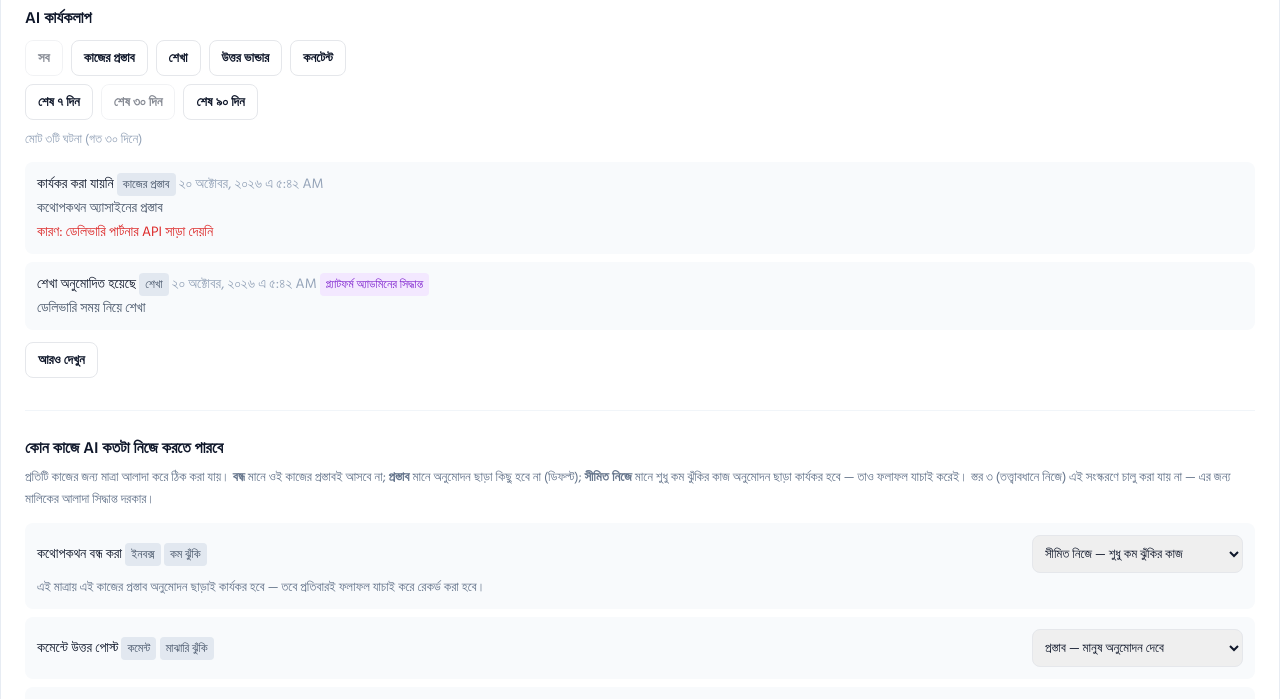
it: AiControlCenterSection (SA-B13 W4) › SA-B25 activity feed: 'আরও দেখুন' appends page 2 and disappears when items reach the total
(page scrolled)
Expected: the text "ঈদ অফারের ক্যাপশন" is not shown
Click the button "আরও দেখুন" at (61, 360), box [25,342,98,378]
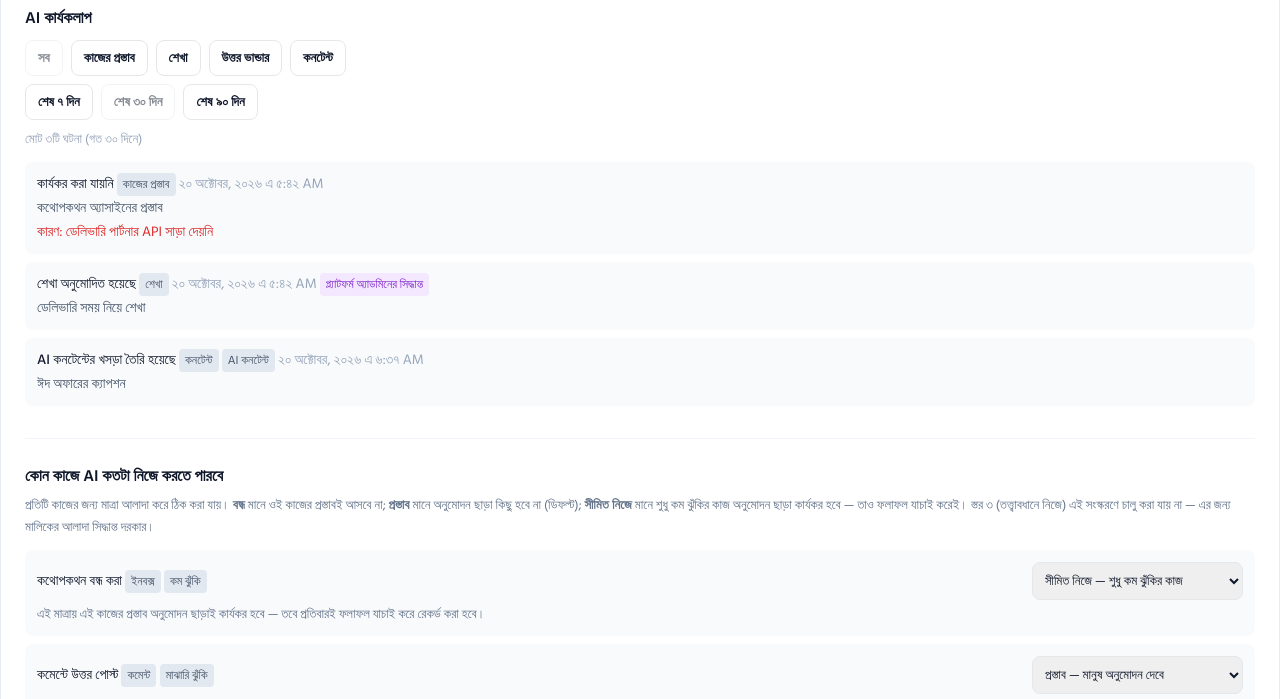
Expected: the text "কারণ: ডেলিভারি পার্টনার API সাড়া দেয়নি" is shown, [37,220,213,243]
Expected: the text "ঈদ অফারের ক্যাপশন" is shown, [37,372,126,395]
Expected: the button "আরও দেখুন" is gone
